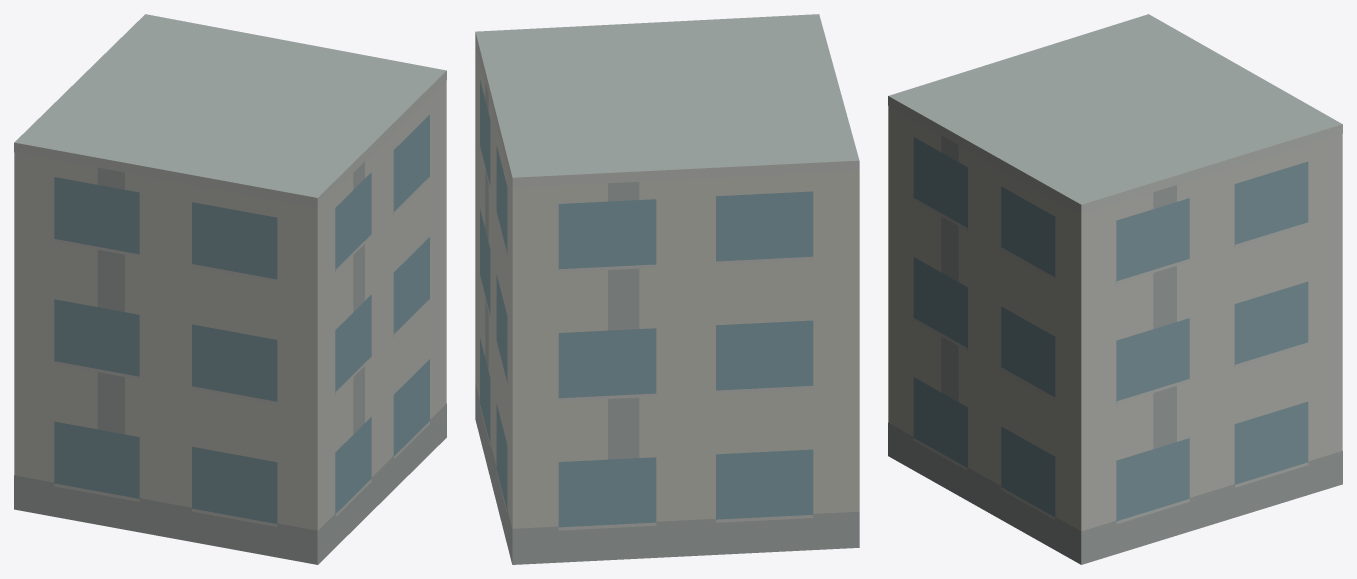
File: survey-upis-32543376.glb
3 views of the same model, side by side, from view 1: azimuth 30°, elevation 25°; view 2: azimuth 150°, elevation 25°; view 3: azimuth 270°, elevation 25° (orthographic). The views are drawn at different scales.
Visible parts, largest first — view 1: survey-upis-32543376.tmp; view 2: survey-upis-32543376.tmp; view 3: survey-upis-32543376.tmp.
Part boxes in pixels (bbox=[...]): survey-upis-32543376.tmp: bbox=[14, 14, 446, 564]; survey-upis-32543376.tmp: bbox=[475, 14, 859, 564]; survey-upis-32543376.tmp: bbox=[888, 14, 1342, 564].
Size of the model in its own units: 10.4 by 9.15 by 10.48.
